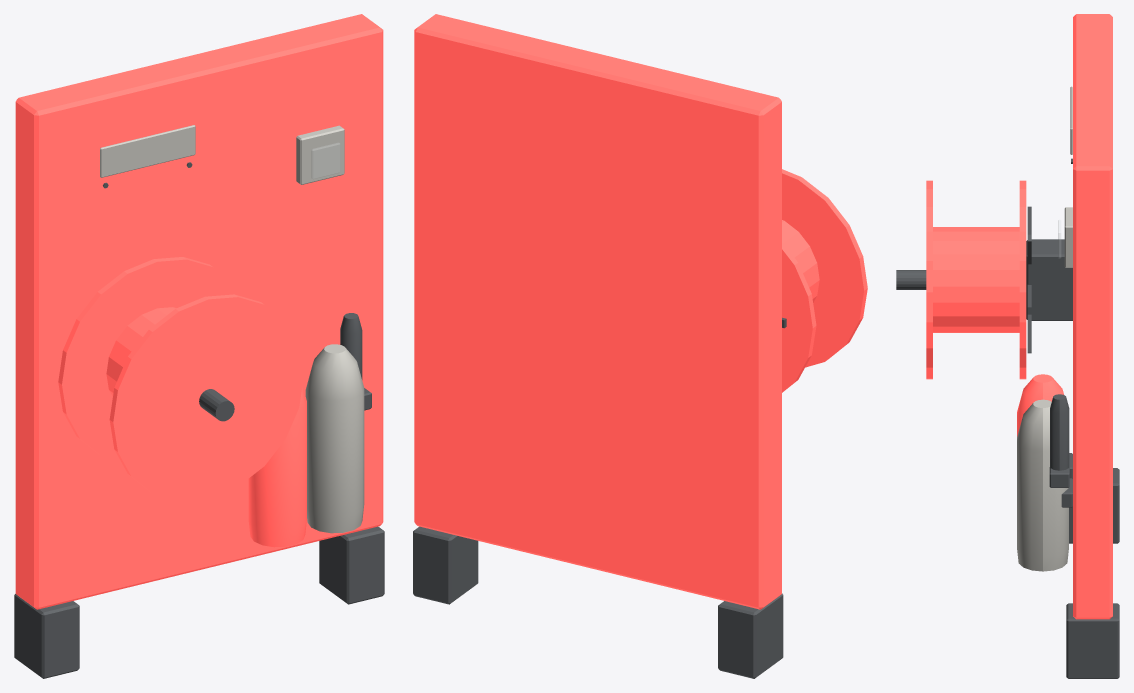
File: nuclear-power-station-and-control-room-fire-and-emerge-c606cade__36944.glb
3 renders of one model, left to right at view 1: azimuth 30°, elevation 25°; view 2: azimuth 150°, elevation 25°; view 3: azimuth 270°, elevation 25°, orthographic. The views are drawn at different scales.
Parts seen in each view (by area): view 1: fire-and-emergency-station, wheel-reel/signal; view 2: fire-and-emergency-station, wheel-reel/signal; view 3: fire-and-emergency-station, wheel-reel/signal, wheel-reel/dark.
Part boxes in pixels (x1,y1,x2,y2): fire-and-emergency-station: [14, 14, 384, 678]; wheel-reel/signal: [58, 257, 303, 500]; fire-and-emergency-station: [413, 14, 783, 678]; wheel-reel/signal: [782, 169, 867, 392]; fire-and-emergency-station: [896, 14, 1119, 678]; wheel-reel/signal: [926, 180, 1026, 379]; wheel-reel/dark: [1027, 206, 1031, 353].
Size of the model in its own units: 1.11 by 1.7 by 0.6701.
